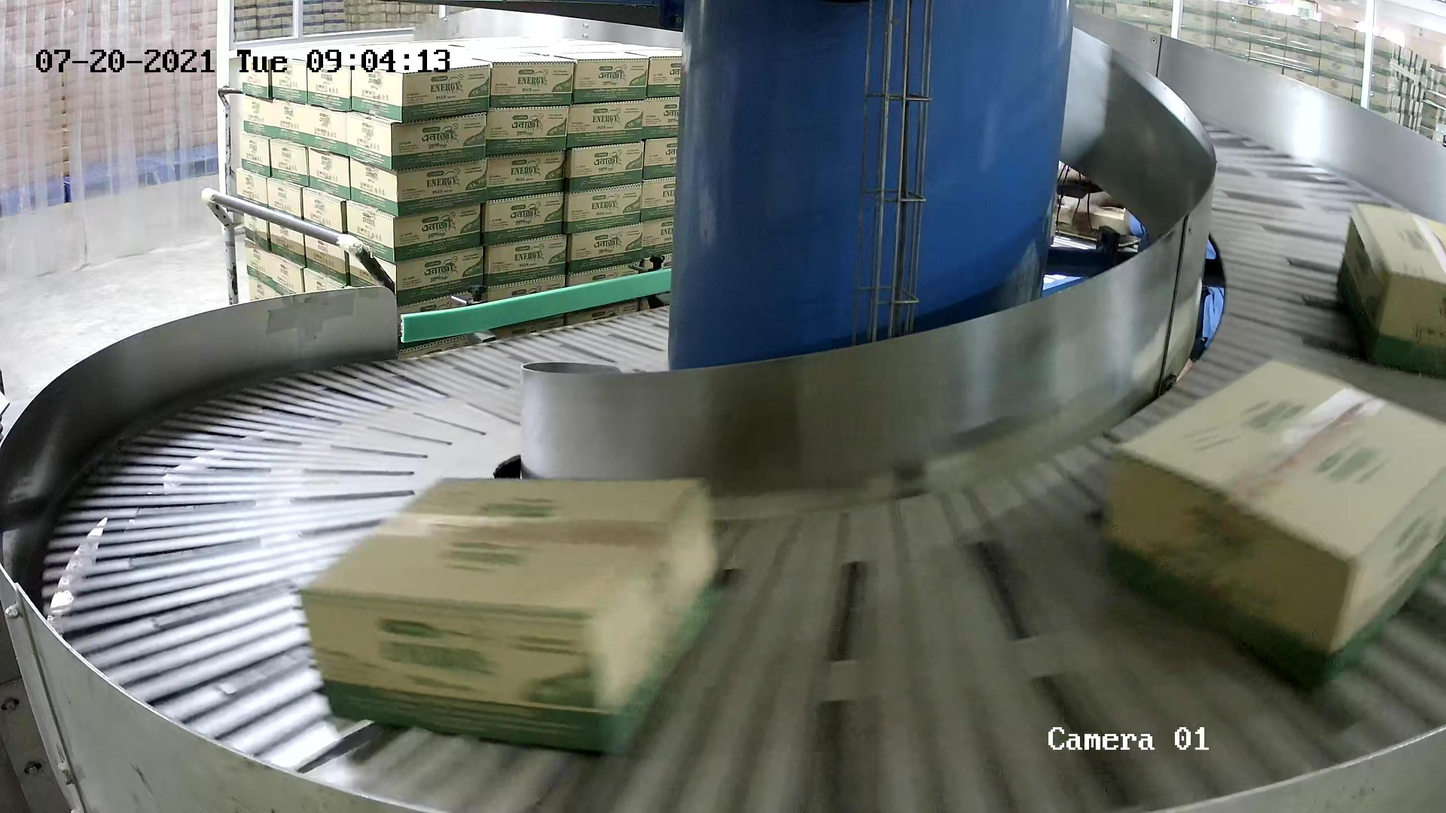Box: (298, 475, 725, 755), (1099, 358, 1446, 691), (1334, 201, 1446, 379)
